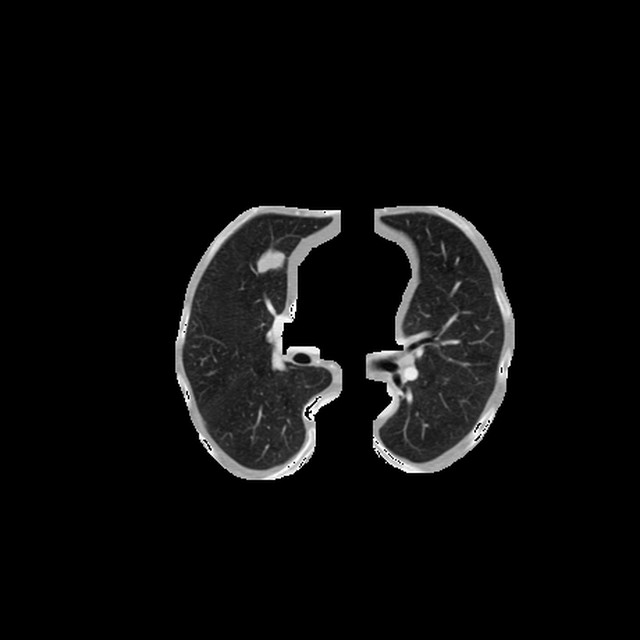PN: (259, 250, 281, 273)
